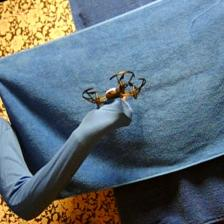drone: (82, 68, 145, 104)
